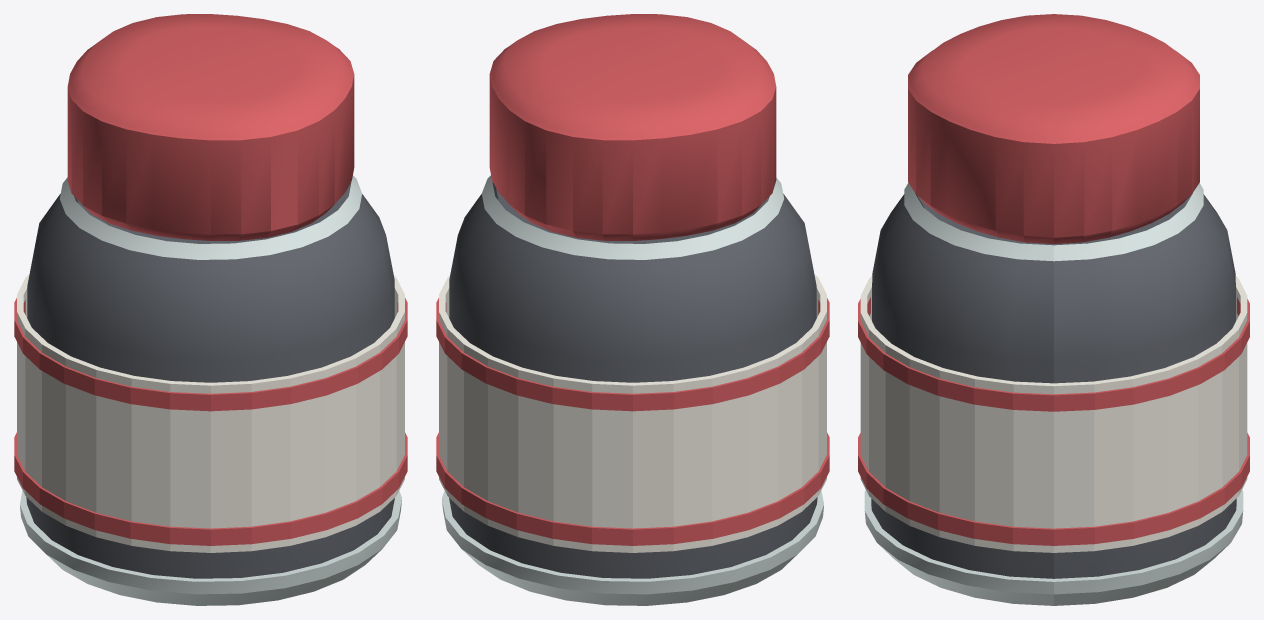
Rendered from fresh-produce-and-groceries-coffee-jar-c906d3fe__24437.glb.
3 renders of one model, left to right at view 1: azimuth 30°, elevation 25°; view 2: azimuth 150°, elevation 25°; view 3: azimuth 270°, elevation 25°, orthographic.
Parts seen in each view (by area): view 1: coffee-jar; view 2: coffee-jar; view 3: coffee-jar.
Part boxes in pixels (x1,y1,x2,y2): coffee-jar: (14, 14, 407, 605); coffee-jar: (436, 14, 829, 605); coffee-jar: (858, 14, 1249, 605).
Size of the model in its own units: 0.0878 by 0.1152 by 0.0873.
